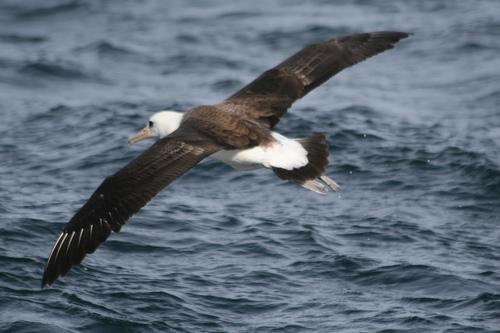002.Laysan_Albatross: (43, 32, 418, 284)
